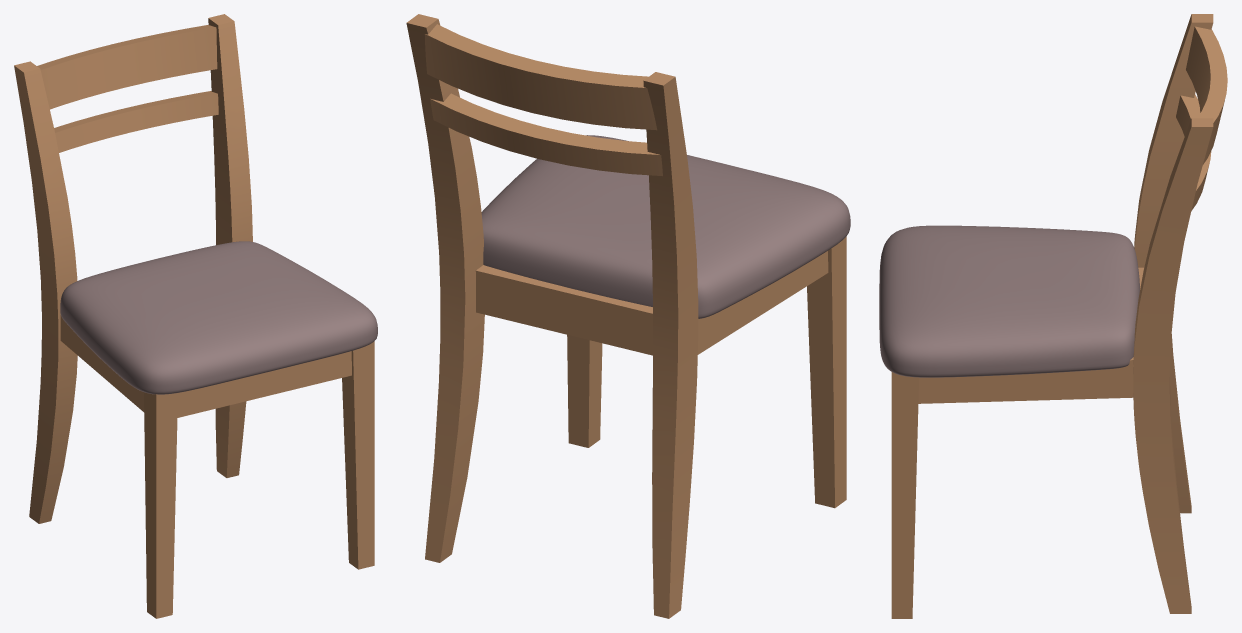
The model's file is 580_ダイニングチェア.glb.
3 renders of one model, left to right at view 1: azimuth 30°, elevation 25°; view 2: azimuth 150°, elevation 25°; view 3: azimuth 270°, elevation 25°, orthographic. The views are drawn at different scales.
Visible parts, largest first — view 1: Body; view 2: Body; view 3: Body.
Part boxes in pixels (x1,y1,x2,y2): Body: [14, 14, 377, 618]; Body: [406, 14, 850, 618]; Body: [879, 14, 1227, 618].
Size of the model in its own units: 0.441 by 0.78 by 0.5028.
